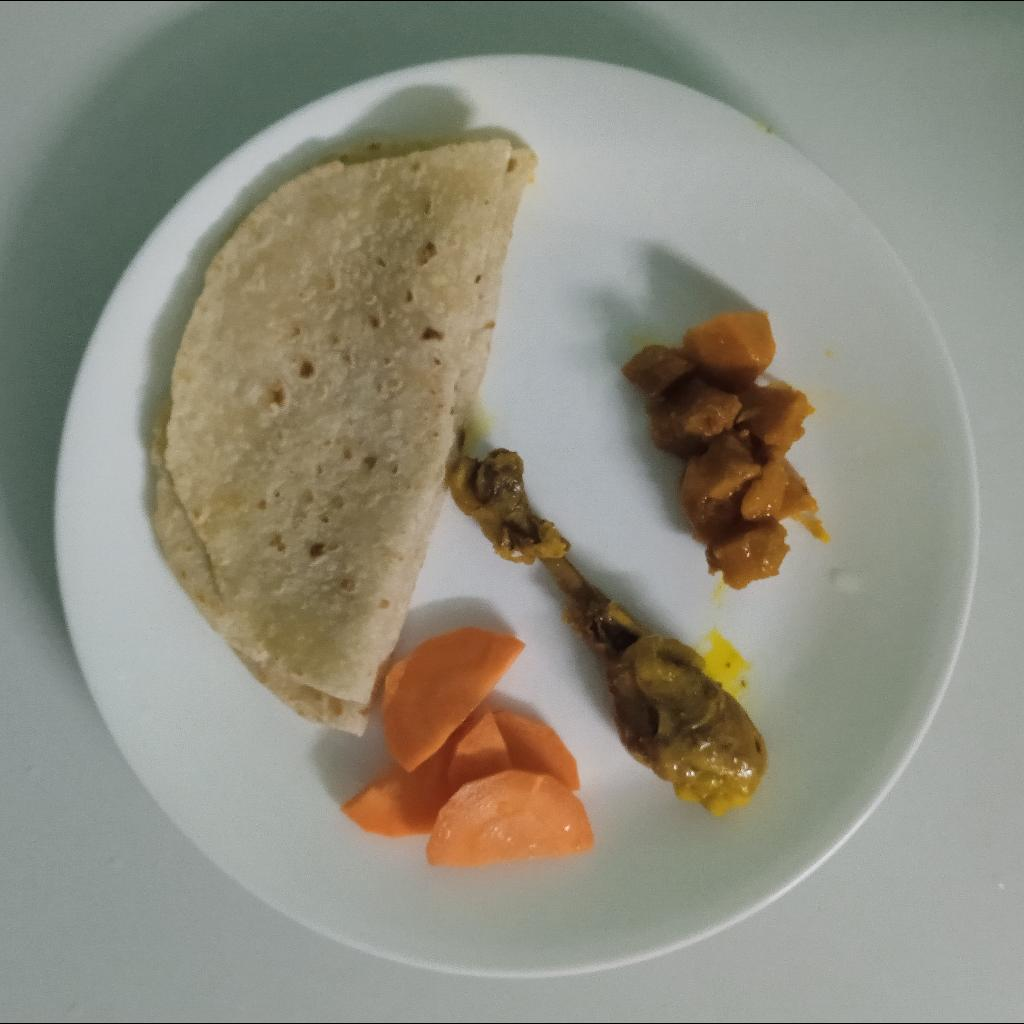carrot: (337, 622, 597, 872)
chicken: (447, 446, 771, 816)
kumra-vaji: (619, 308, 832, 591)
ruti: (145, 135, 545, 738)
